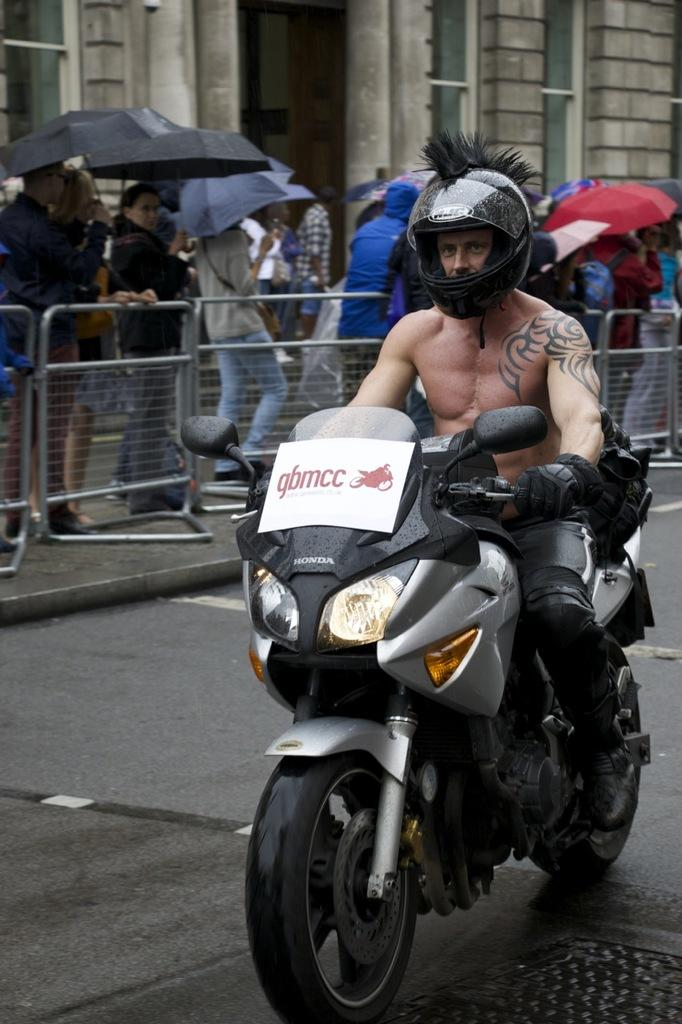helmet: (406, 167, 535, 320)
nohelmet: (24, 156, 70, 207), (120, 183, 162, 232)
